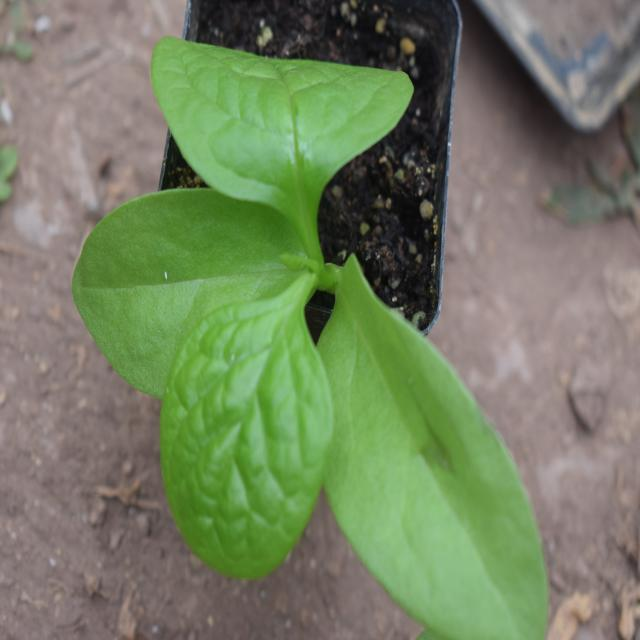Ceylon spinach: (88, 20, 552, 634)
